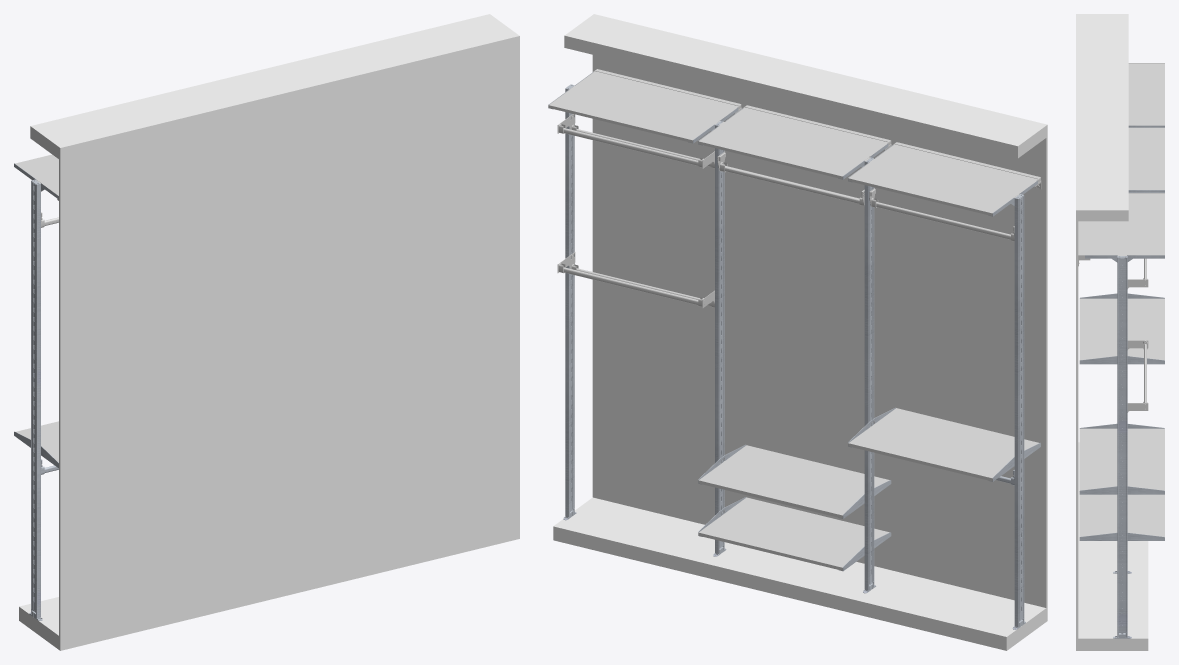
The picture shows the model from 3 angles, left to right: view 1: azimuth 30°, elevation 25°; view 2: azimuth 150°, elevation 25°; view 3: azimuth 270°, elevation 25°; orthographic projection. The views are drawn at different scales.
Parts seen in each view (by area): view 1: Geom3D (×2), Geom3D_Geom3D_组件#16_Defintion21_Geom3D_组件#16; view 2: Geom3D (×5), Geom3D_Geom3D_组件#16_Defintion21_Geom3D_组件#16, Geom3D_Geom3D_组件#16_Defintion24_Geom3D_组件#16, Geom3D_Geom3D_组件#16_Defintion30_Geom3D_组件#16, Geom3D_Geom3D_组件#15_Defintion14_Geom3D_组件#15, Geom3D_Geom3D_组件#15_Defintion26_Geom3D_组件#15, Geom3D_Geom3D_组件#15_Defintion12_Geom3D_组件#15, Geom3D_Geom3D_组件#11_双衣杆 copy 002_Defintion31_Geom3D_组件#11_双衣, Geom3D_Geom3D_组件#11_双衣杆 copy 002_Defintion#2_Geom3D_组件#11_双衣, Geom3D_Geom3D_组件#10_单挂衣杆 copy 001_Defintion25_Geom3D_组件#10_单, Geom3D_Geom3D_组件#10_单挂衣杆 copy 001_Defintion54_Geom3D_组件#10_单; view 3: Geom3D (×6), Geom3D_Geom3D_组件#15_Defintion14_Geom3D_组件#15, Geom3D_Geom3D_组件#15_Defintion26_Geom3D_组件#15, Geom3D_Geom3D_组件#16_Defintion30_Geom3D_组件#16, Geom3D_Geom3D_组件#15_Defintion12_Geom3D_组件#15, Geom3D_Geom3D_组件#16_Defintion21_Geom3D_组件#16, Geom3D_Geom3D_组件#16_Defintion24_Geom3D_组件#16, Geom3D_Geom3D_组件#11_双衣杆 copy 002_Defintion31_Geom3D_组件#11_双衣, Geom3D_Geom3D_组件#11_双衣杆 copy 002_Defintion#2_Geom3D_组件#11_双衣.
Part boxes in pixels (box(x1,y1,x2,y2)): Geom3D (×2): box(19, 14, 519, 650); Geom3D_Geom3D_组件#16_Defintion21_Geom3D_组件#16: box(15, 154, 58, 200); Geom3D (×5): box(553, 14, 1047, 650); Geom3D_Geom3D_组件#16_Defintion21_Geom3D_组件#16: box(848, 142, 1041, 215); Geom3D_Geom3D_组件#16_Defintion24_Geom3D_组件#16: box(698, 105, 891, 179); Geom3D_Geom3D_组件#16_Defintion30_Geom3D_组件#16: box(548, 69, 741, 142); Geom3D_Geom3D_组件#15_Defintion14_Geom3D_组件#15: box(698, 445, 889, 518); Geom3D_Geom3D_组件#15_Defintion26_Geom3D_组件#15: box(848, 408, 1038, 481); Geom3D_Geom3D_组件#15_Defintion12_Geom3D_组件#15: box(698, 497, 889, 570); Geom3D_Geom3D_组件#11_双衣杆 copy 002_Defintion31_Geom3D_组件#11_双衣: box(557, 252, 714, 308); Geom3D_Geom3D_组件#11_双衣杆 copy 002_Defintion#2_Geom3D_组件#11_双衣: box(557, 114, 714, 168); Geom3D_Geom3D_组件#10_单挂衣杆 copy 001_Defintion25_Geom3D_组件#10_单: box(717, 151, 864, 205); Geom3D_Geom3D_组件#10_单挂衣杆 copy 001_Defintion54_Geom3D_组件#10_单: box(869, 188, 1014, 241); Geom3D (×6): box(1076, 14, 1164, 650); Geom3D_Geom3D_组件#15_Defintion14_Geom3D_组件#15: box(1079, 428, 1164, 490); Geom3D_Geom3D_组件#15_Defintion26_Geom3D_组件#15: box(1079, 298, 1164, 360); Geom3D_Geom3D_组件#16_Defintion30_Geom3D_组件#16: box(1078, 193, 1164, 266); Geom3D_Geom3D_组件#15_Defintion12_Geom3D_组件#15: box(1079, 494, 1164, 536); Geom3D_Geom3D_组件#16_Defintion21_Geom3D_组件#16: box(1128, 63, 1164, 125); Geom3D_Geom3D_组件#16_Defintion24_Geom3D_组件#16: box(1128, 127, 1164, 189); Geom3D_Geom3D_组件#11_双衣杆 copy 002_Defintion31_Geom3D_组件#11_双衣: box(1127, 340, 1148, 412); Geom3D_Geom3D_组件#11_双衣杆 copy 002_Defintion#2_Geom3D_组件#11_双衣: box(1127, 258, 1148, 288).
Size of the model in its own units: 2.73 by 2.85 by 0.5216.
2 materials, 1 textured.
